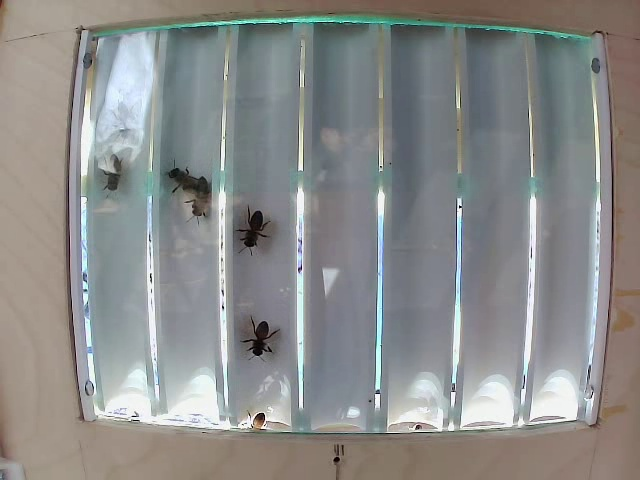bee: (93, 144, 137, 200), (241, 308, 282, 366), (238, 207, 283, 256), (164, 156, 204, 203), (180, 181, 222, 225)
